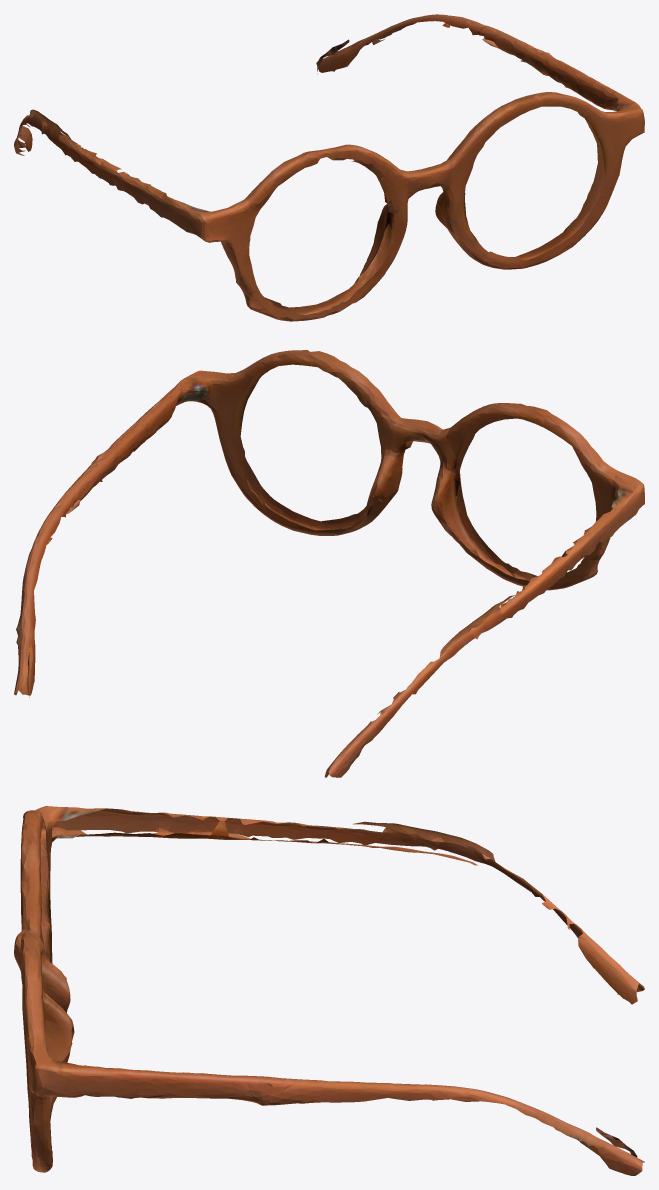
File: scan_align.obj
The picture shows the model from 3 angles, top to bottom: view 1: azimuth 30°, elevation 25°; view 2: azimuth 150°, elevation 25°; view 3: azimuth 270°, elevation 25°; orthographic projection. The views are drawn at different scales.
Size of the model in its own units: 0.131 by 0.0482 by 0.1294.
Materials: 1 (1 with a texture image).
